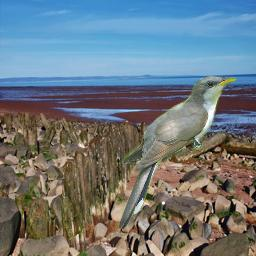Cuckoo: (118, 76, 236, 229)
